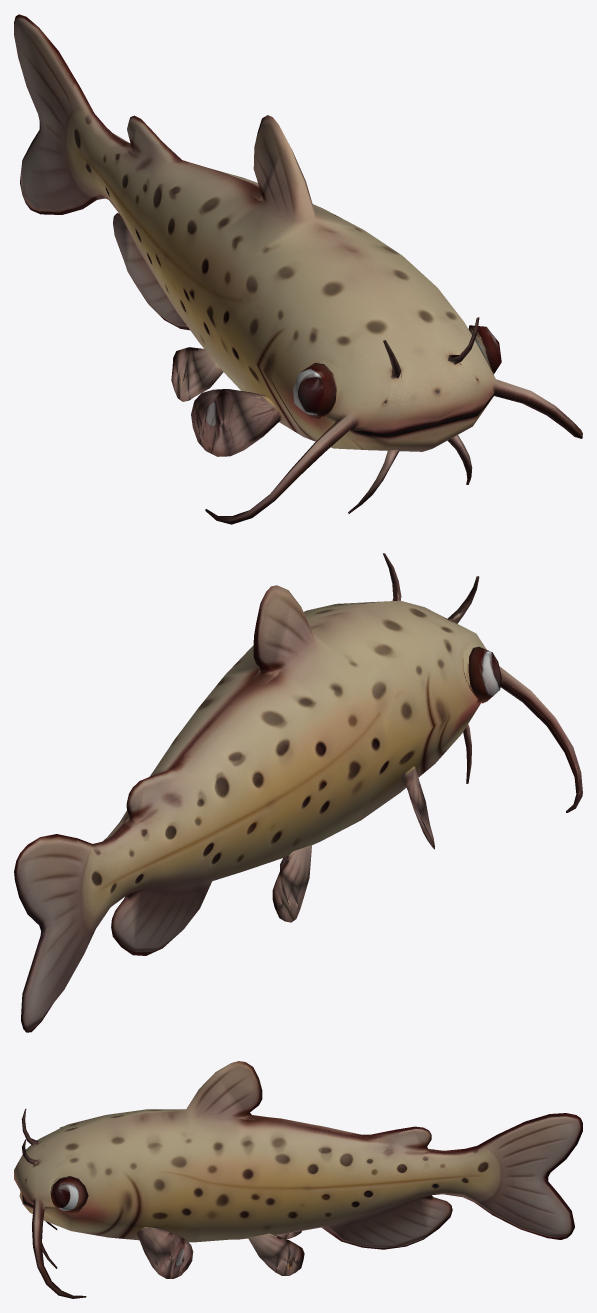
Rendered from Channel_Catfish_01.fbx.
3 renders of one model, top to bottom at view 1: azimuth 30°, elevation 25°; view 2: azimuth 150°, elevation 25°; view 3: azimuth 270°, elevation 25°, orthographic. The views are drawn at different scales.
Visible parts, largest first — view 1: Channel_Catfish_01; view 2: Channel_Catfish_01; view 3: Channel_Catfish_01.
Part boxes in pixels (x1,y1,x2,y2): Channel_Catfish_01: [14, 14, 582, 524]; Channel_Catfish_01: [14, 553, 582, 1032]; Channel_Catfish_01: [14, 1061, 582, 1298].
Bounding box in the file's own units: 49.02 × 38.09 × 99.8.
